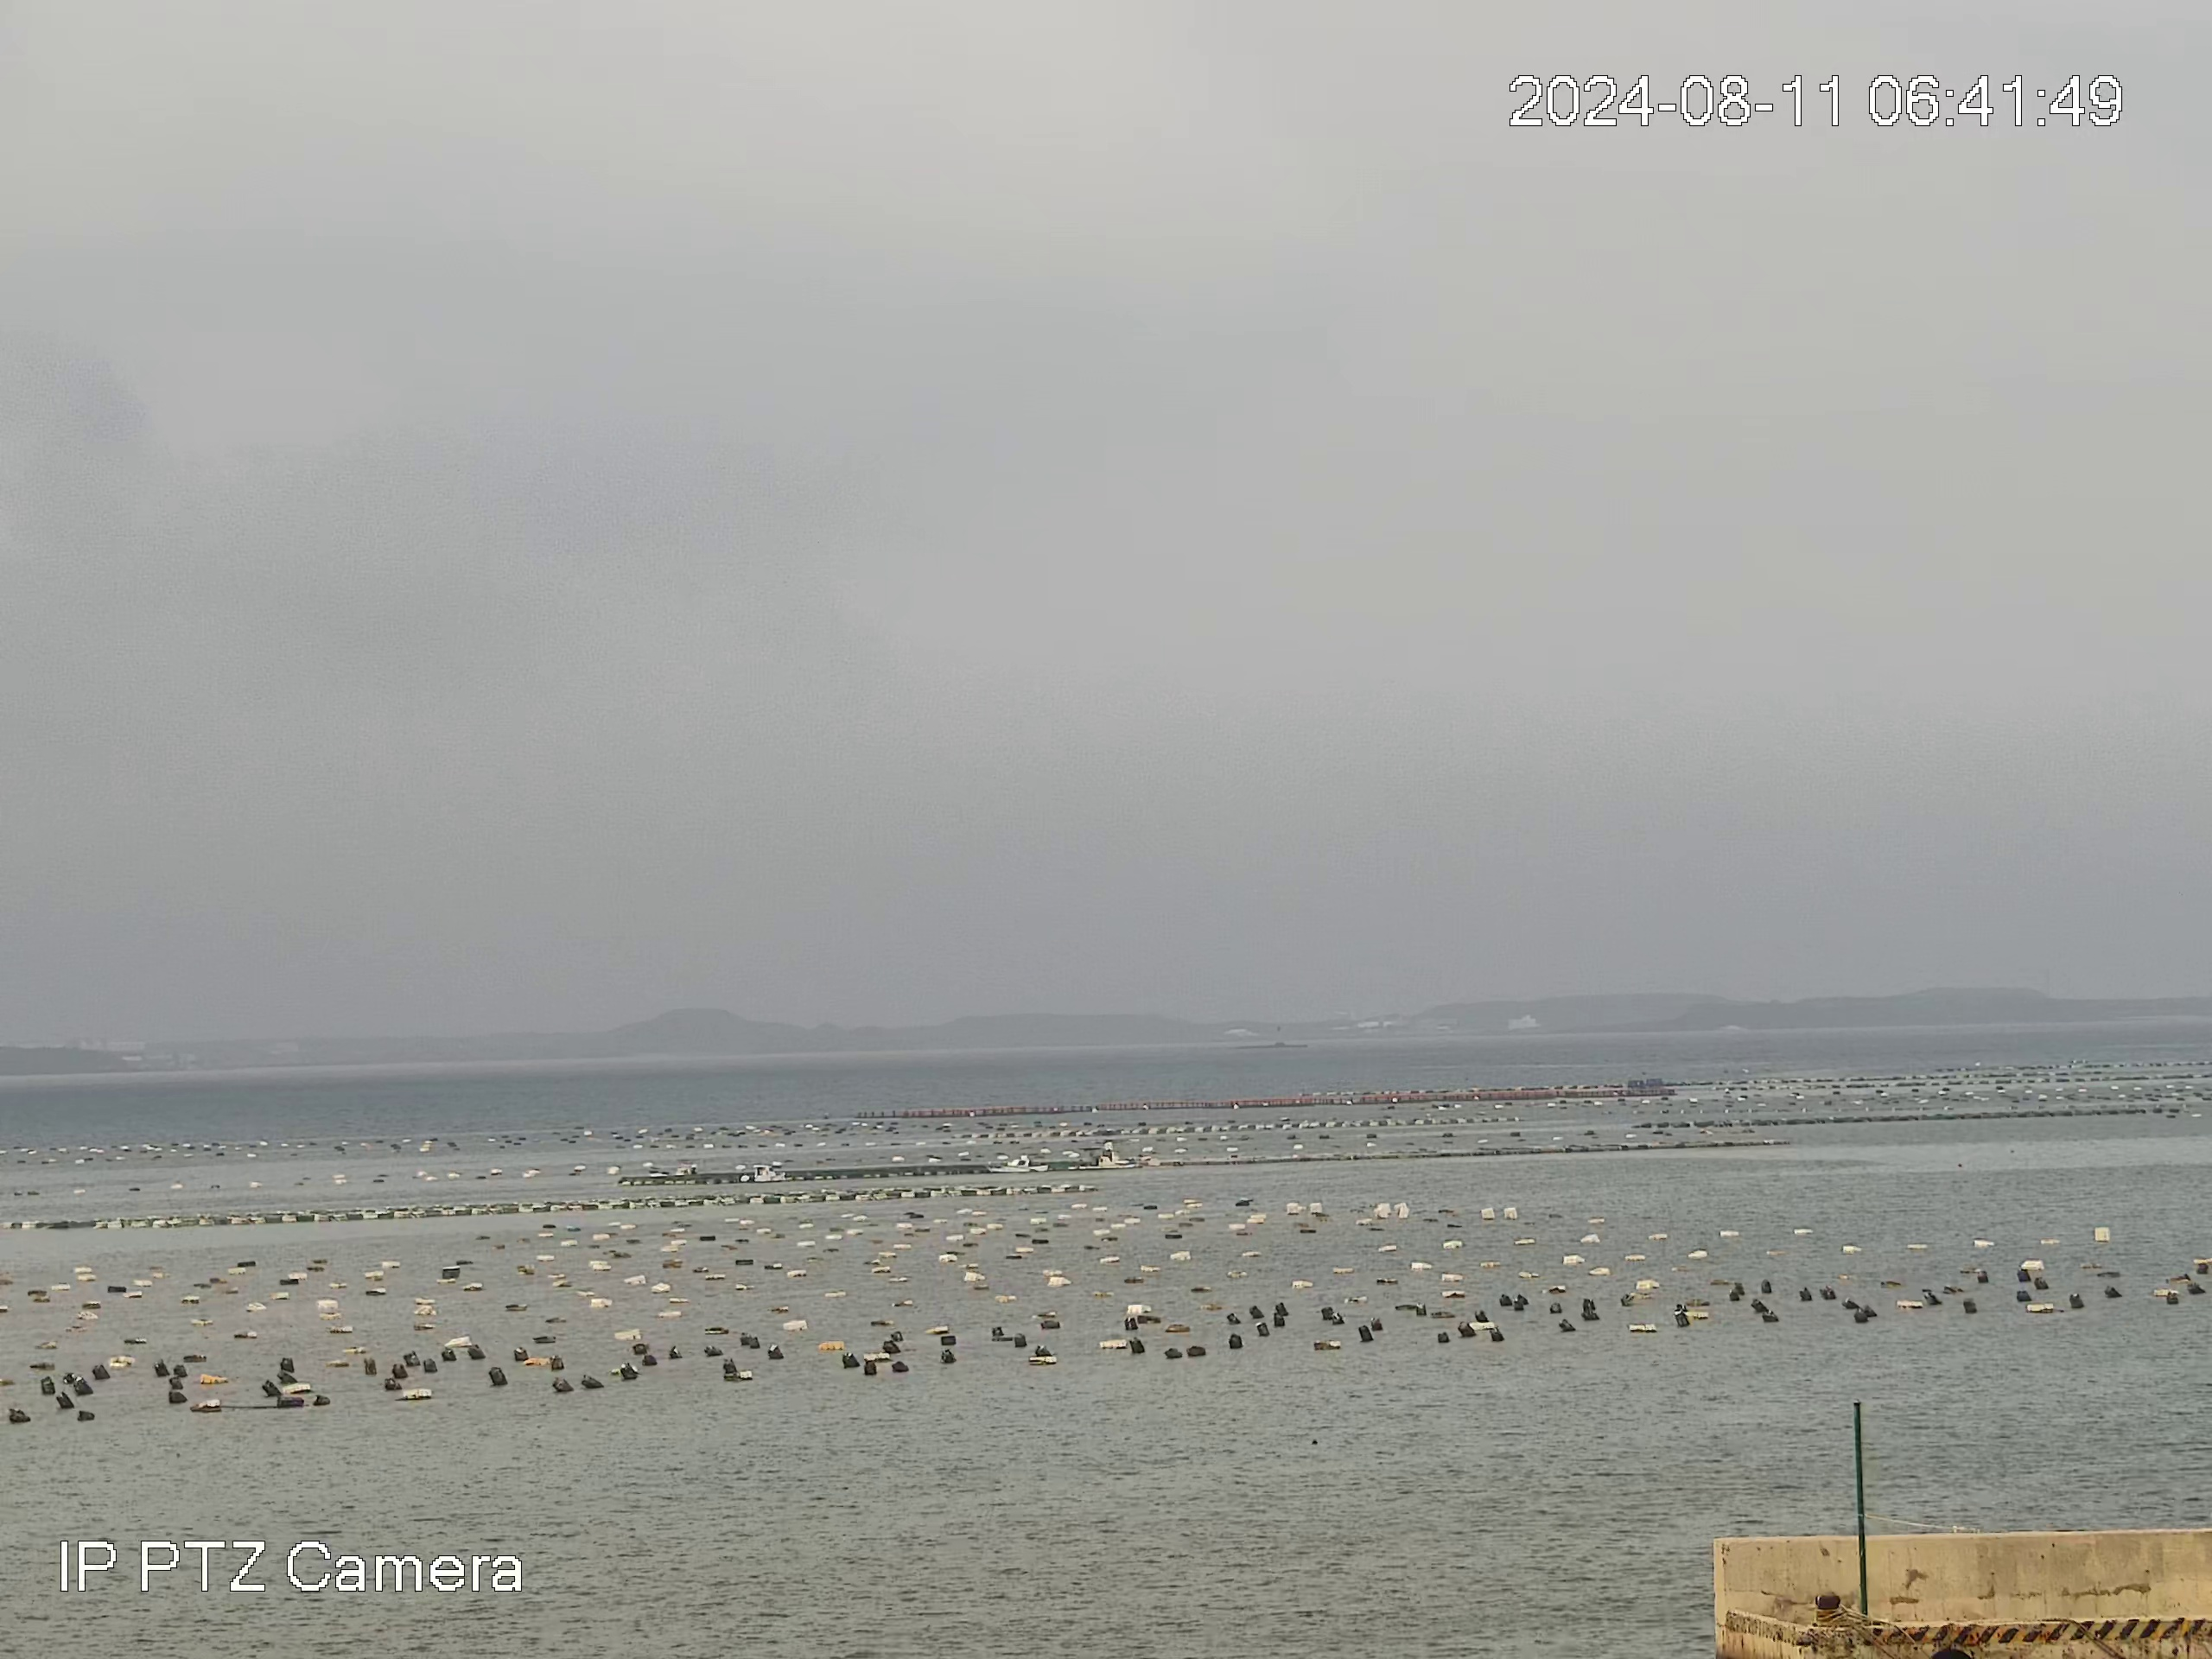boat: (984, 1154, 1050, 1173), (1064, 1152, 1122, 1171), (738, 1162, 786, 1183)
